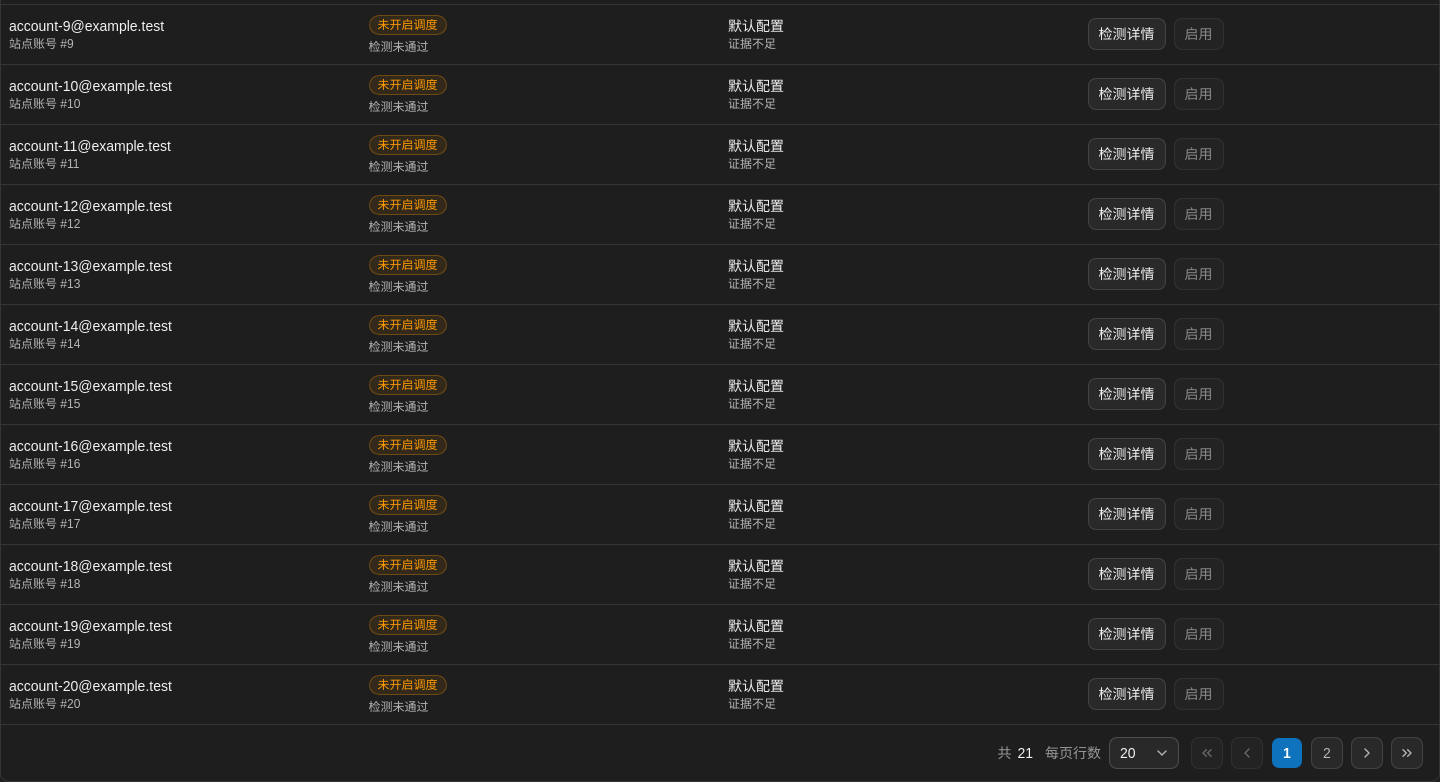
写入等待期间分页和检测详情仍可读取，启用操作保持禁用
The image size is (1440, 782).
(page scrolled)
Click the button named "转到下一页" at (1367,753), box [1351, 737, 1383, 769]
(page scrolled)
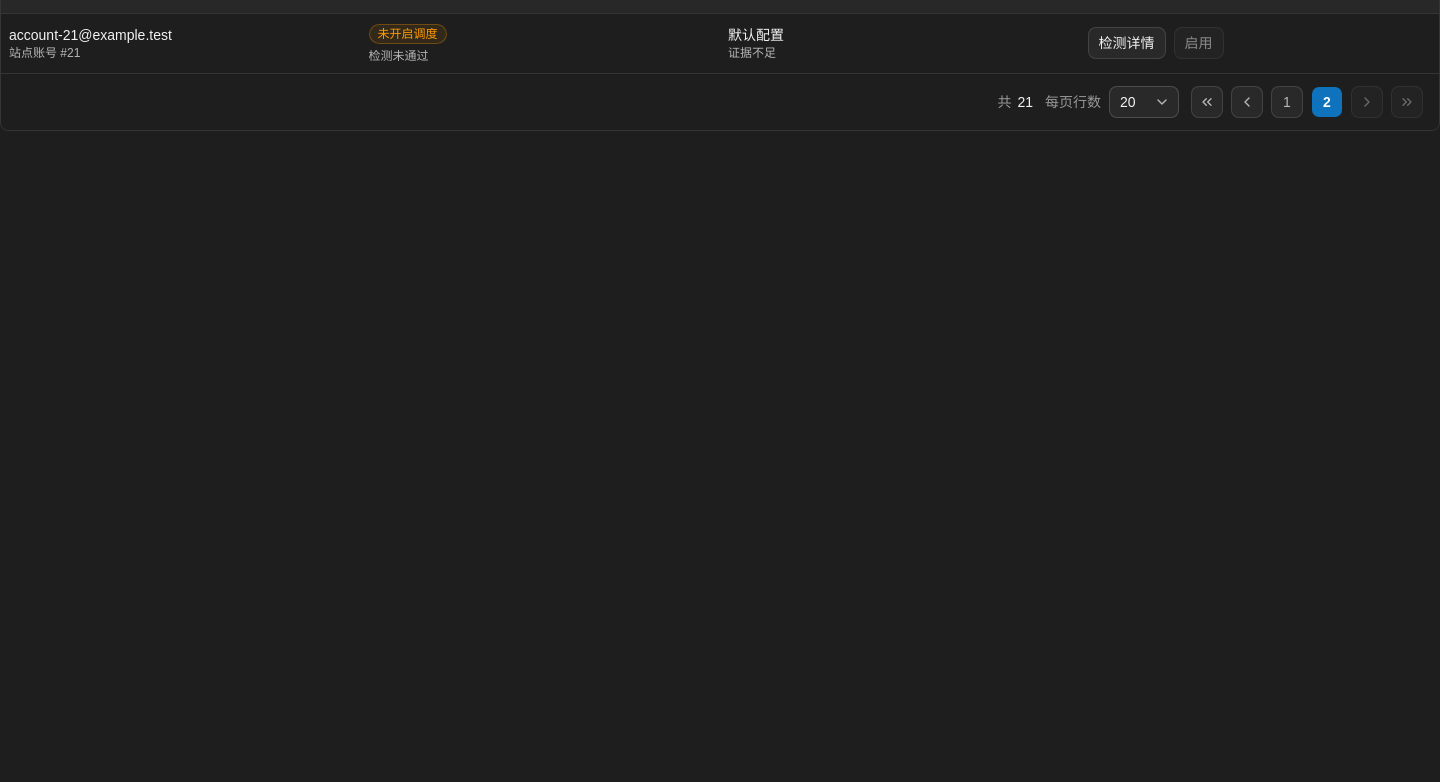
Expected: the button "启用" is disabled, [1174, 27, 1224, 59]
Click the button "检测详情" at (1126,43), box [1088, 27, 1166, 59]
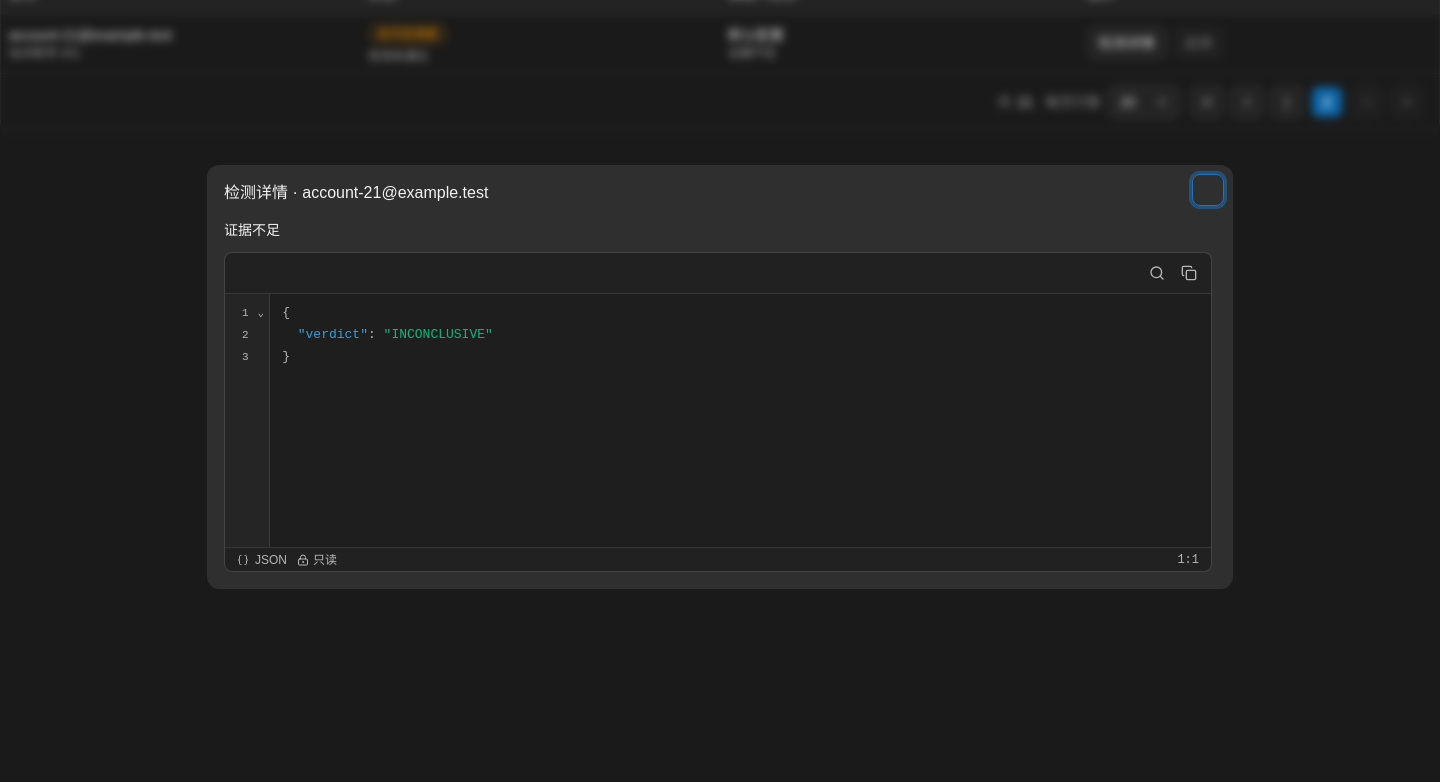
Now the heading "检测详情 · account-21@example.test" is shown, box [224, 184, 488, 201]
